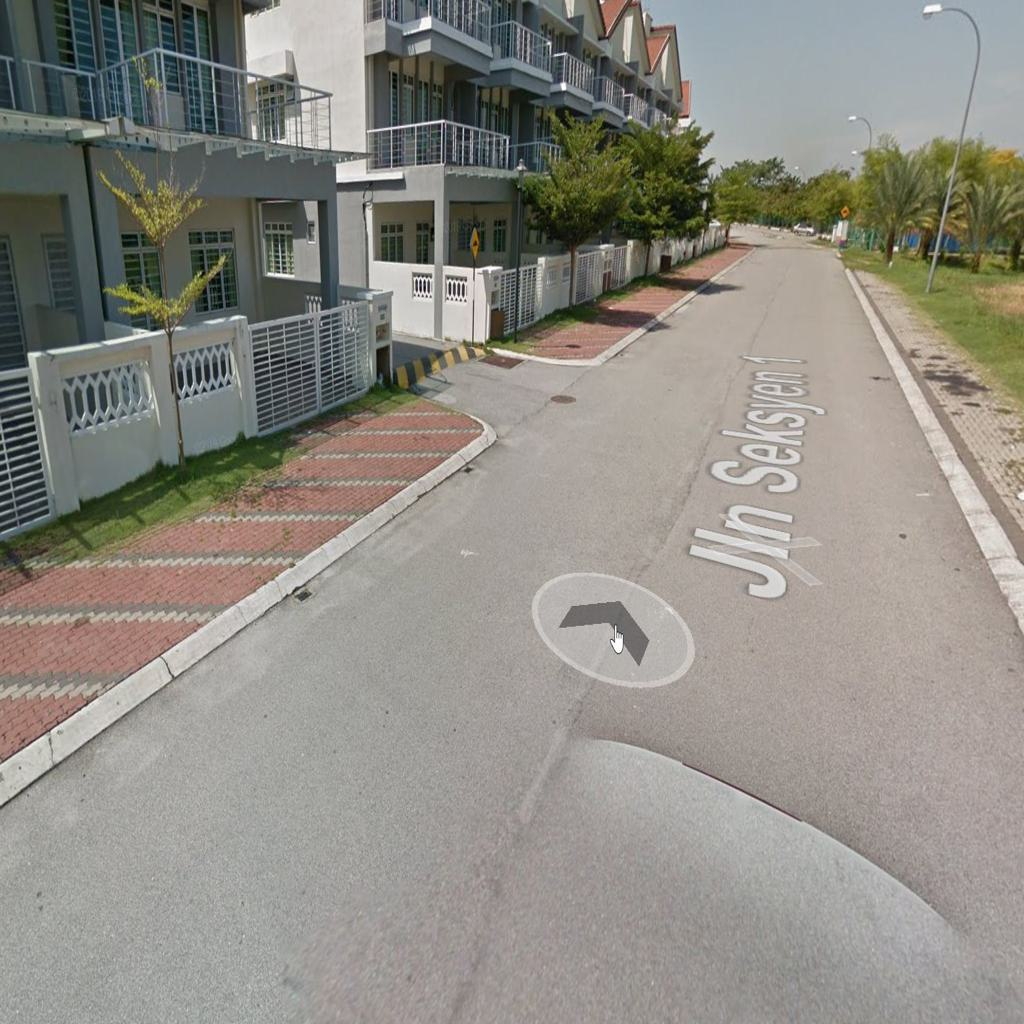Junction: (394, 293, 626, 481)
